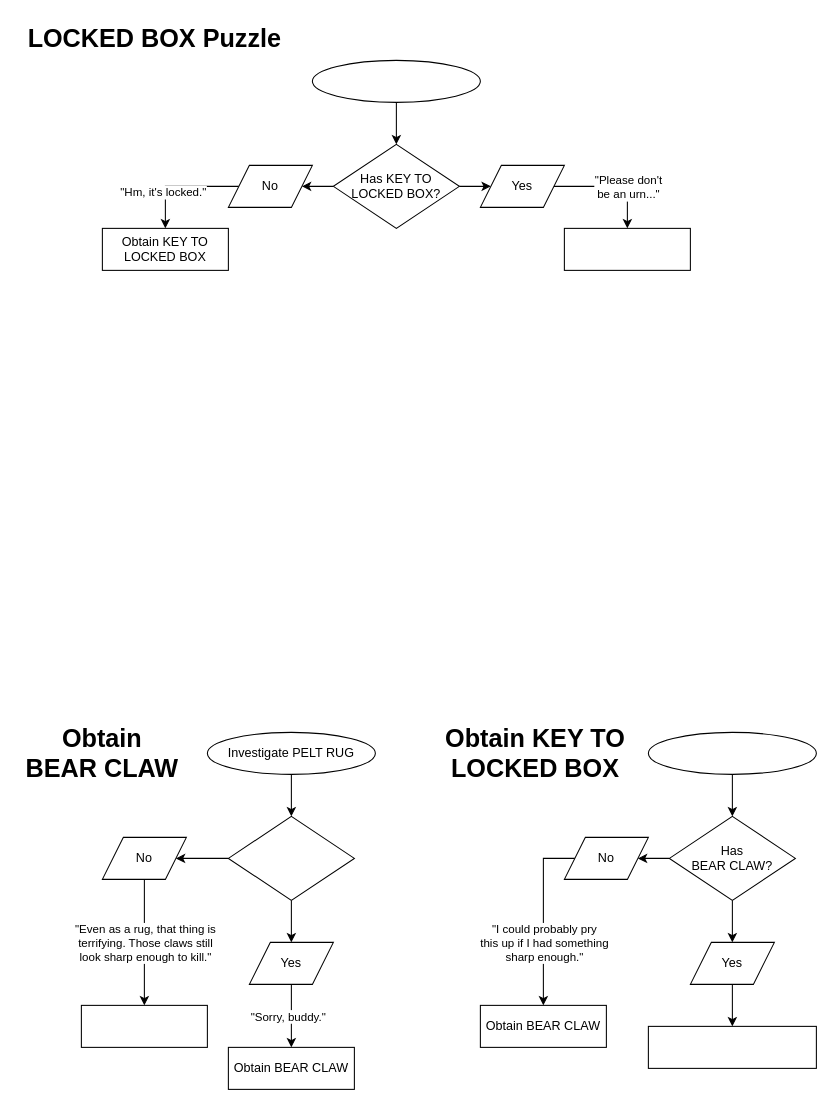
Image size: 835x1108. Some labels were removed from this diagram. The box of each missing label's shape, as (x1, y1, x2, y2) in pixels:
Investigate LOCKED BOX: (311, 59, 480, 102)
Investigate LOOSE TILE: (647, 731, 816, 774)
Investigated LOOSE TILE?: (227, 815, 354, 900)
Note BEAR CLAW: (80, 1004, 207, 1047)
Open LOCKED BOX and obtain _____: (563, 227, 690, 270)
Remove LOOSE TILE and obtain KEY LOCKED BOX: (647, 1025, 816, 1068)
